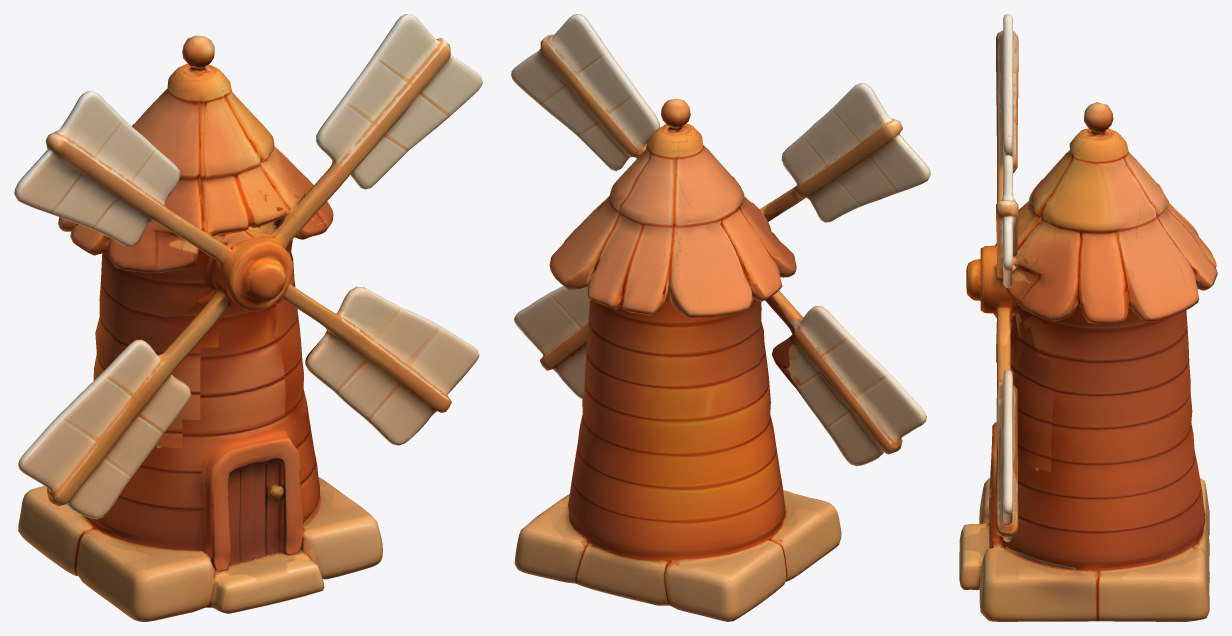
Rendered from Molino2.fbx.
The picture shows the model from 3 angles, left to right: view 1: azimuth 30°, elevation 25°; view 2: azimuth 150°, elevation 25°; view 3: azimuth 270°, elevation 25°; orthographic projection. The views are drawn at different scales.
Parts seen in each view (by area): view 1: Retopo_model; view 2: Retopo_model; view 3: Retopo_model.
Boxes of the visible parts, left/top/right/bottom form: Retopo_model: left=14, top=14, right=482, bottom=621; Retopo_model: left=511, top=14, right=930, bottom=621; Retopo_model: left=959, top=14, right=1217, bottom=621.
Bounding box in the file's own units: 169 × 185 × 89.63.
1 material, 1 textured.
